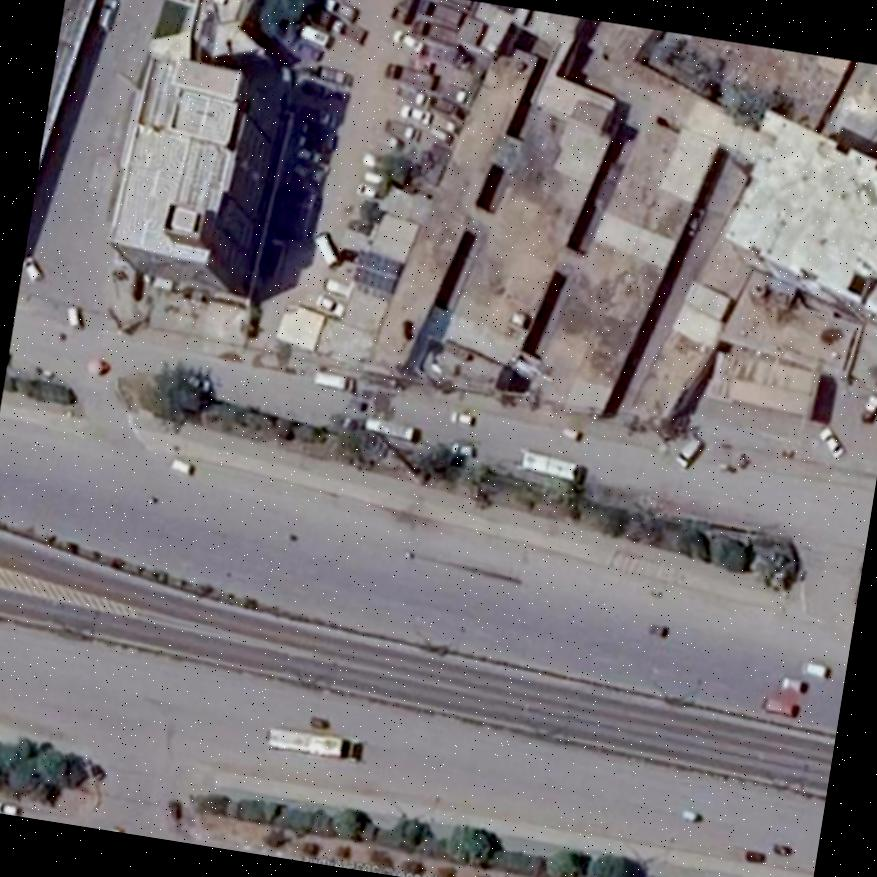Solarpanel: (353, 250, 400, 293)
